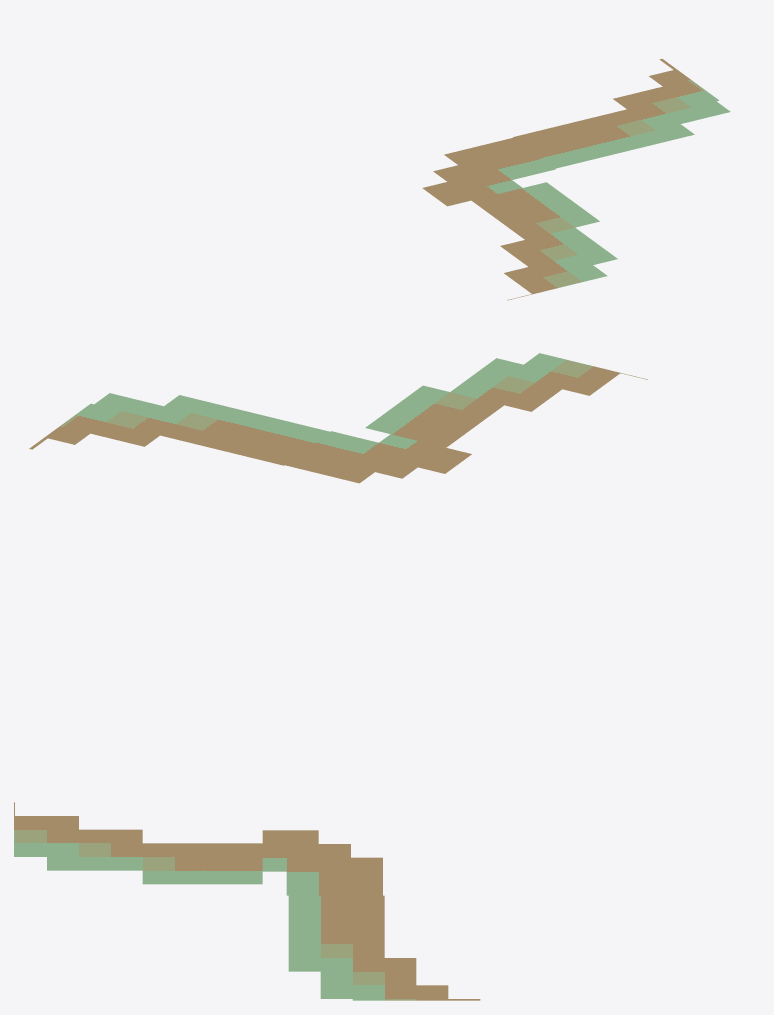
3 renders of one model, top to bottom at view 1: azimuth 30°, elevation 25°; view 2: azimuth 150°, elevation 25°; view 3: azimuth 270°, elevation 25°, orthographic. The views are drawn at different scales.
Size of the model in its own units: 1.5 by 0 by 1.5.
Materials: 1 (1 with a texture image).
